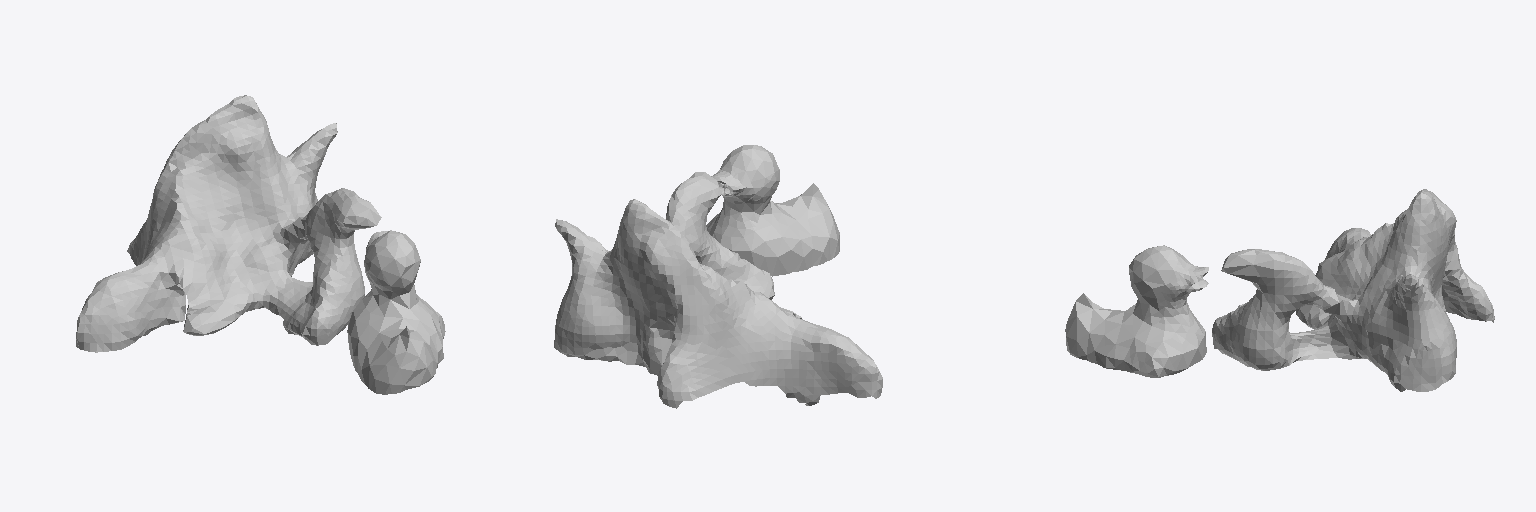
The model's file is asteroidbesar.obj.
The picture shows the model from 3 angles: view 1: azimuth 30°, elevation 25°; view 2: azimuth 150°, elevation 25°; view 3: azimuth 270°, elevation 25°; orthographic projection.
Visible parts, largest first — view 1: Duck; view 2: Duck; view 3: Duck.
Boxes of the visible parts, x1=… form: Duck: x1=76, y1=95, x2=445, y2=394; Duck: x1=554, y1=145, x2=882, y2=408; Duck: x1=1065, y1=189, x2=1494, y2=391.
Size of the model in its own units: 63.54 by 38.65 by 80.35.